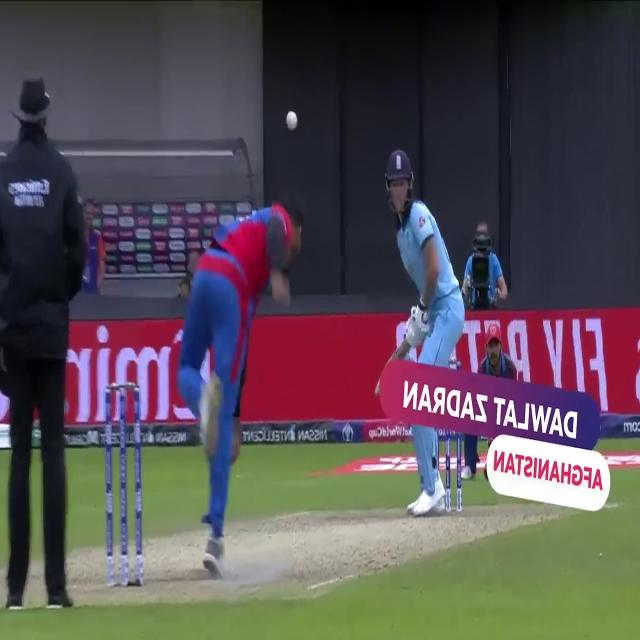ball: (282, 105, 300, 135)
